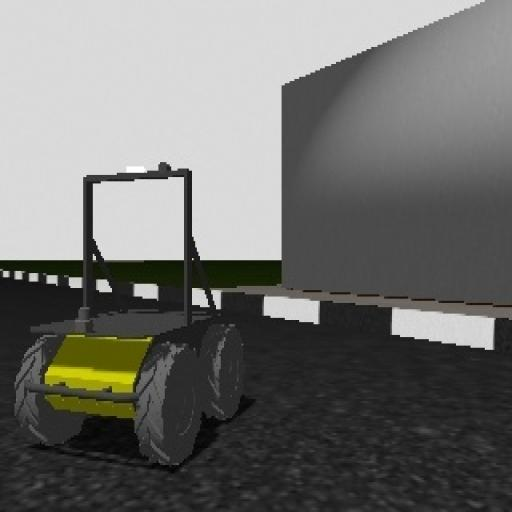huskya200: (12, 154, 242, 482)
